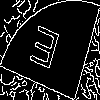E: (24, 25, 62, 79)
